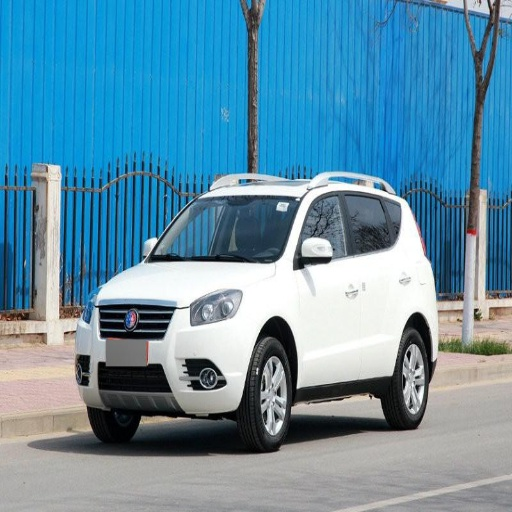front_bumper: (74, 300, 260, 417)
front_glass: (148, 195, 300, 262)
front_left_door: (294, 189, 362, 384)
